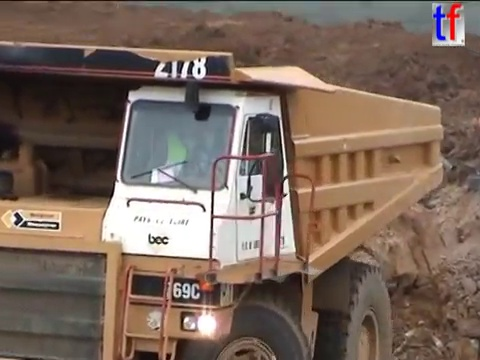truck: (1, 34, 450, 360)
